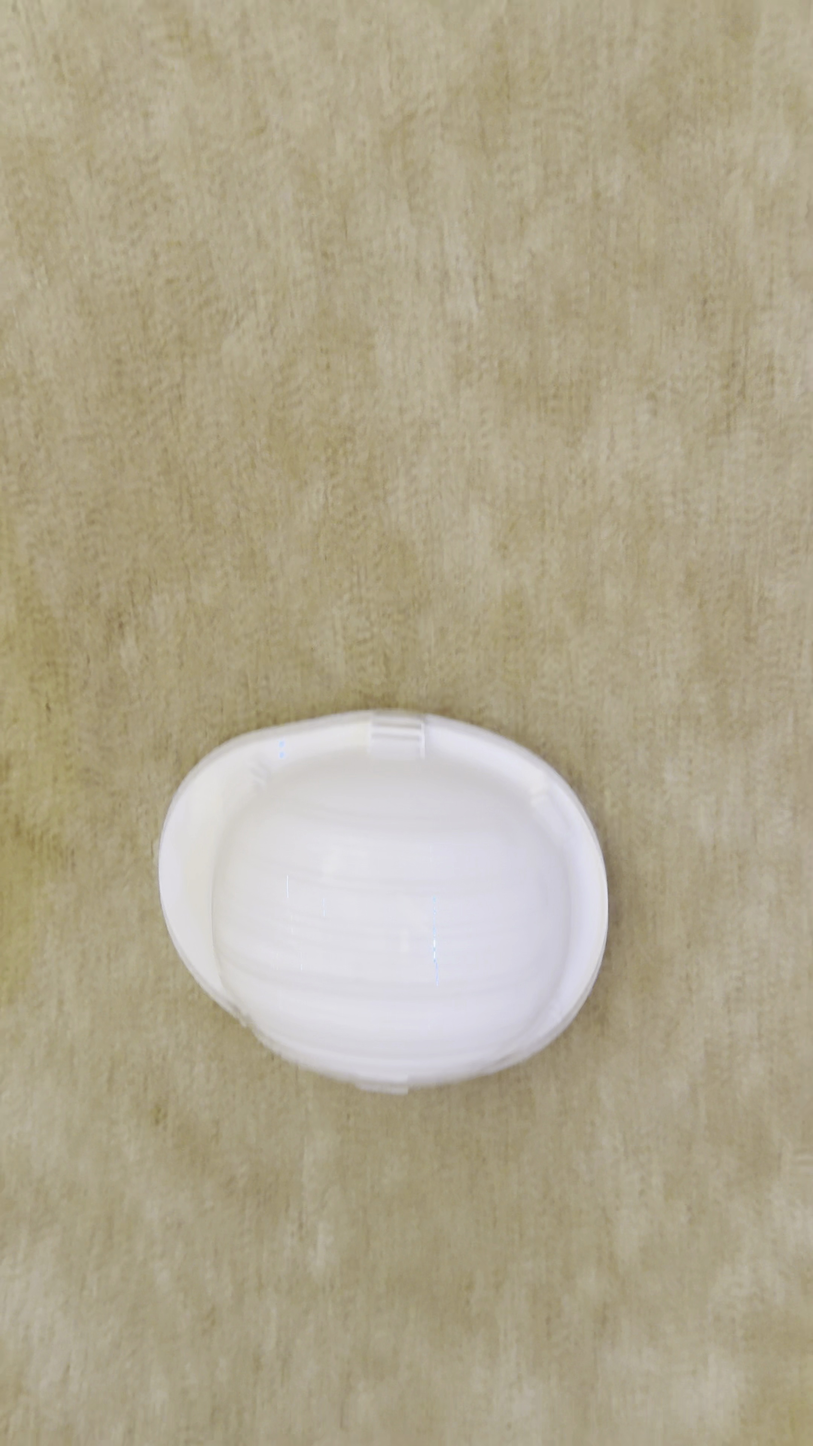safety_helmet: (155, 705, 612, 1096)
